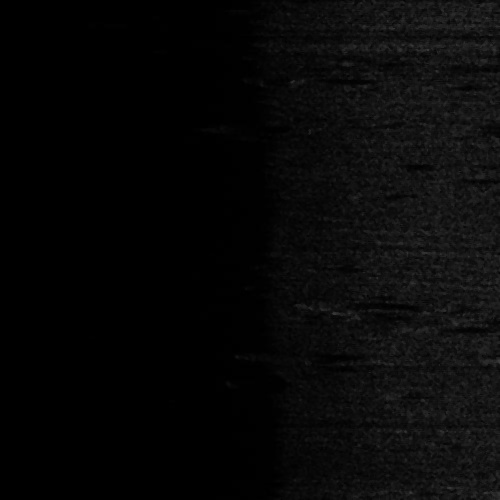object: (296, 297, 359, 306), (410, 324, 473, 329), (464, 355, 500, 360)
shadow: (327, 297, 431, 306), (441, 324, 500, 329)
